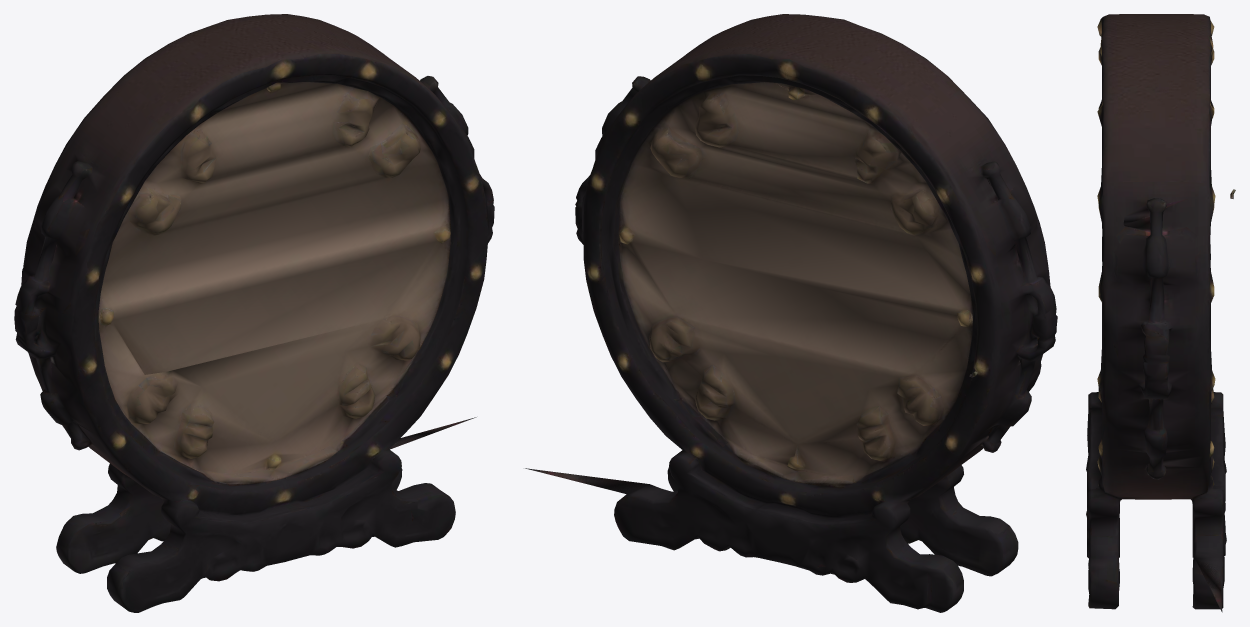
The model's file is oni-daiko.opt.glb.
The picture shows the model from 3 angles, left to right: view 1: azimuth 30°, elevation 25°; view 2: azimuth 150°, elevation 25°; view 3: azimuth 270°, elevation 25°; orthographic projection. The views are drawn at different scales.
Bounding box in the file's own units: 1.91 × 1.91 × 0.5166.
Materials: 1 (1 with a texture image).
